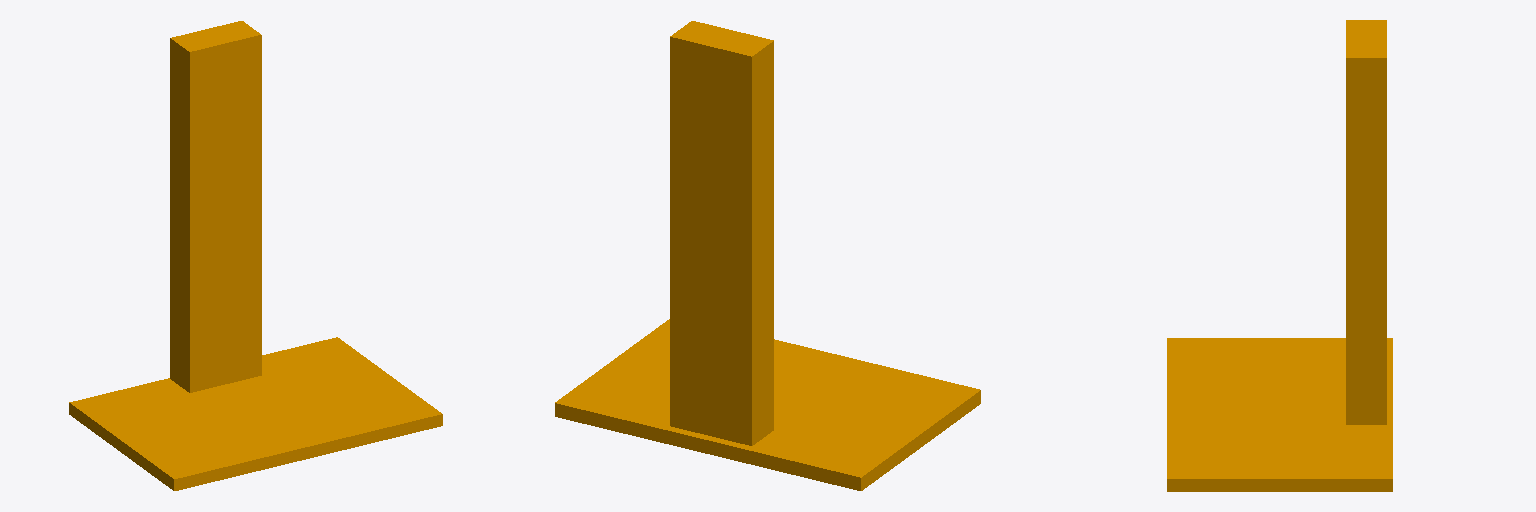
robot.urdf — monitor_stand:
<robot name="monitor_stand">
<link name="stand"><inertial><origin xyz="0.00000 0.02000 0.05000"/><mass value="4.5"/><inertia ixx="3.000e-02" ixy="0" ixz="0" iyy="3.000e-02" iyz="0" izz="3.000e-02"/></inertial>
<visual><origin xyz="0.00000 0.00000 0.00000" rpy="0.00000 0.00000 0.00000"/><geometry><mesh filename="monitor_stand_vis.obj"/></geometry></visual>
<collision><origin xyz="0.00000 0.00000 0.00750" rpy="0 0 0"/><geometry><box size="0.28000 0.19000 0.01200"/></geometry></collision>
<collision><origin xyz="0.00000 0.07250 0.18500" rpy="0 0 0"/><geometry><box size="0.07500 0.03500 0.34000"/></geometry></collision>
</link>
</robot>

--- Facts derived from the render (not from the file) ---
Views: 3 orthographic renders of the robot side by side, from view 1: azimuth 30°, elevation 25°; view 2: azimuth 150°, elevation 25°; view 3: azimuth 270°, elevation 25°.
Model monitor_stand with 1 links and 0 joints (none), rooted at stand, posed all joints at 0.
Visible links, largest first — view 1: stand; view 2: stand; view 3: stand.
Link boxes in pixels (box(x1,y1,x2,y2)): stand: box(69, 21, 442, 490); stand: box(555, 21, 980, 490); stand: box(1167, 20, 1392, 491).
Size in the robot's own frame: 0.28 by 0.19 by 0.3535 metres.
Meshes: 1 distinct files referenced, 1 mesh visuals loaded (1 OBJ).
